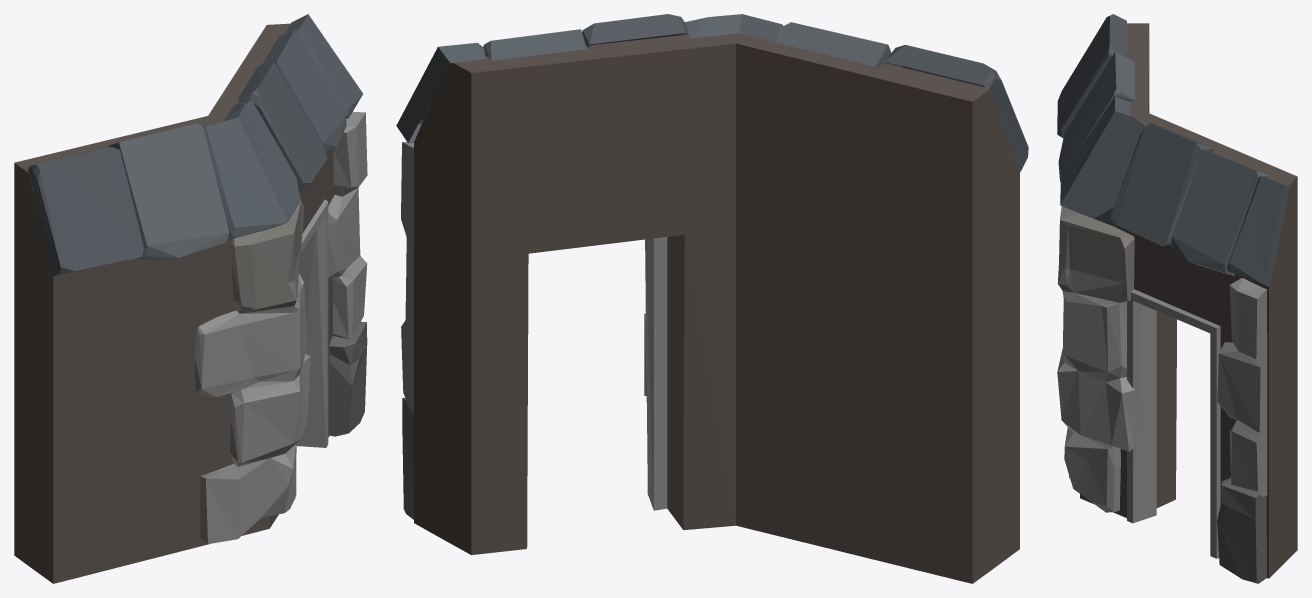
File: MCastle_OctWalls_SlateBase_Door_02.FBX
3 renders of one model, left to right at view 1: azimuth 30°, elevation 25°; view 2: azimuth 150°, elevation 25°; view 3: azimuth 270°, elevation 25°, orthographic. The views are drawn at different scales.
Visible parts, largest first — view 1: MCastle_OctWalls_SlateBase_Door_02_LOD0; view 2: MCastle_OctWalls_SlateBase_Door_02_LOD0; view 3: MCastle_OctWalls_SlateBase_Door_02_LOD0.
Part boxes in pixels (x1=…): MCastle_OctWalls_SlateBase_Door_02_LOD0: x1=14, y1=14, x2=367, y2=583; MCastle_OctWalls_SlateBase_Door_02_LOD0: x1=396, y1=14, x2=1028, y2=583; MCastle_OctWalls_SlateBase_Door_02_LOD0: x1=1057, y1=14, x2=1297, y2=583.
Size of what is drawn, in the model's own units: 4.87 by 4.63 by 2.6.
